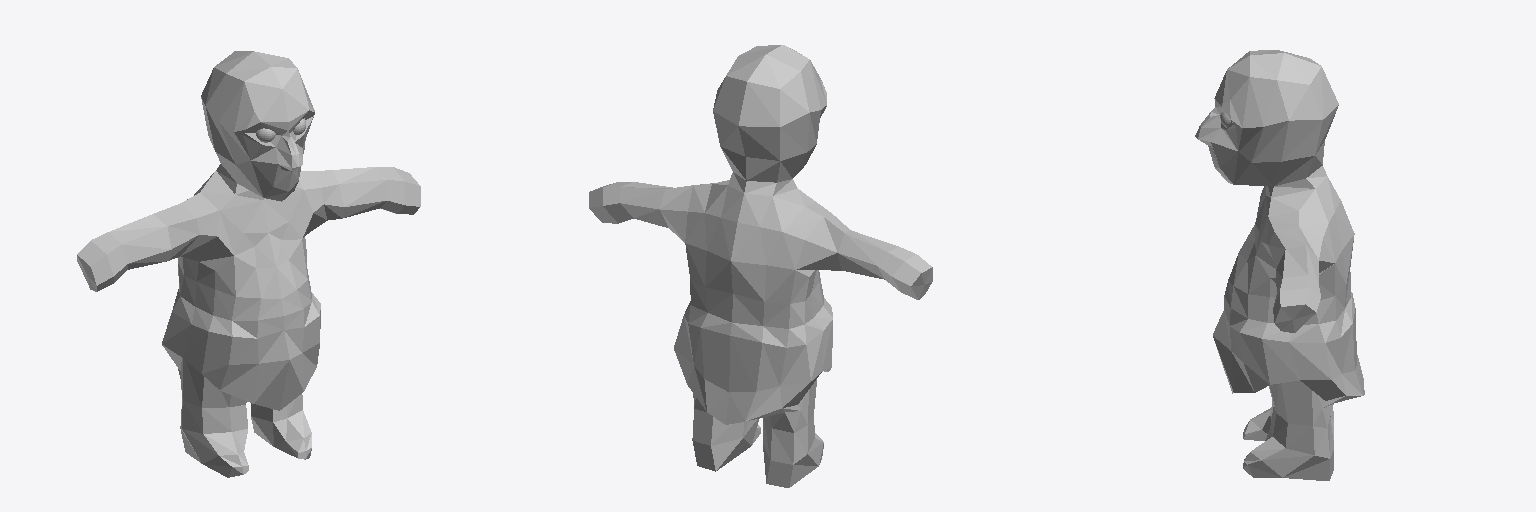
Rendered from ZINGARO.OBJ.
3 views of the same model, side by side, from view 1: azimuth 30°, elevation 25°; view 2: azimuth 150°, elevation 25°; view 3: azimuth 270°, elevation 25° (orthographic).
Visible parts, largest first — view 1: Plane; view 2: Plane; view 3: Plane.
Boxes of the visible parts, x1,y1,x2,y2 form: Plane: [77, 51, 420, 477]; Plane: [589, 45, 932, 487]; Plane: [1195, 50, 1364, 480].
Bounding box in the file's own units: 14.04 × 16.38 × 6.2.